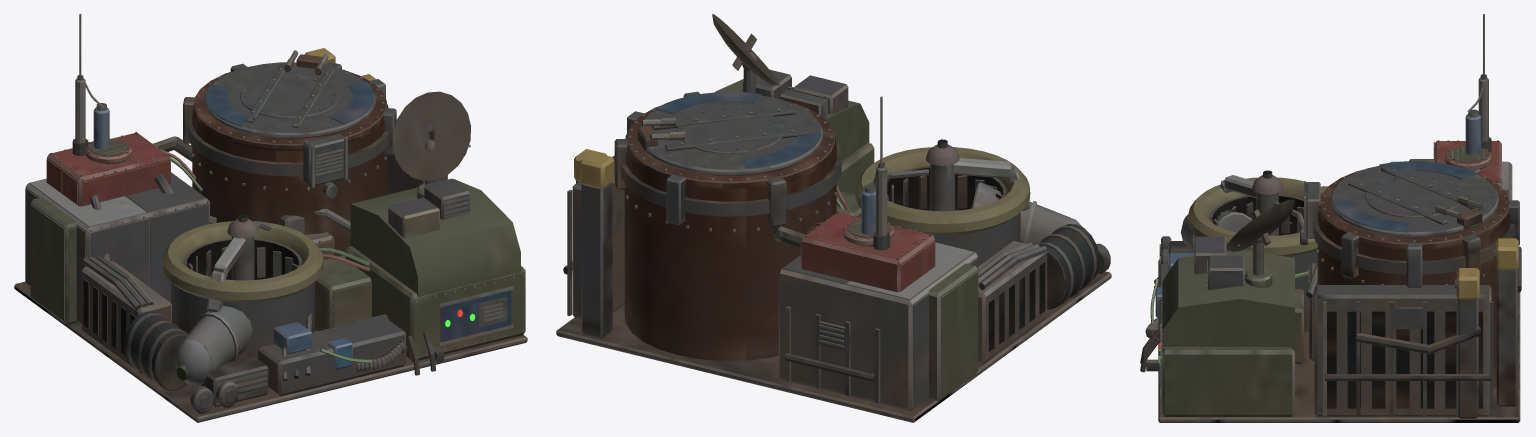
File: cargo-landing-pad.glb
The picture shows the model from 3 angles, left to right: view 1: azimuth 30°, elevation 25°; view 2: azimuth 150°, elevation 25°; view 3: azimuth 270°, elevation 25°; orthographic projection. The views are drawn at different scales.
Parts seen in each view (by area): view 1: body, anim_lid_pad; view 2: body, anim_lid_pad; view 3: body, anim_lid_pad.
Boxes of the visible parts, box(x1,y1,x2,y2) form: body: box(14, 14, 527, 422); anim_lid_pad: box(205, 50, 375, 138); body: box(556, 14, 1111, 422); anim_lid_pad: box(637, 92, 822, 175); body: box(1140, 14, 1521, 422); anim_lid_pad: box(1330, 161, 1498, 237).
Size of the model in its own units: 7.05 by 5.26 by 6.67.
3 materials, 3 textured.
